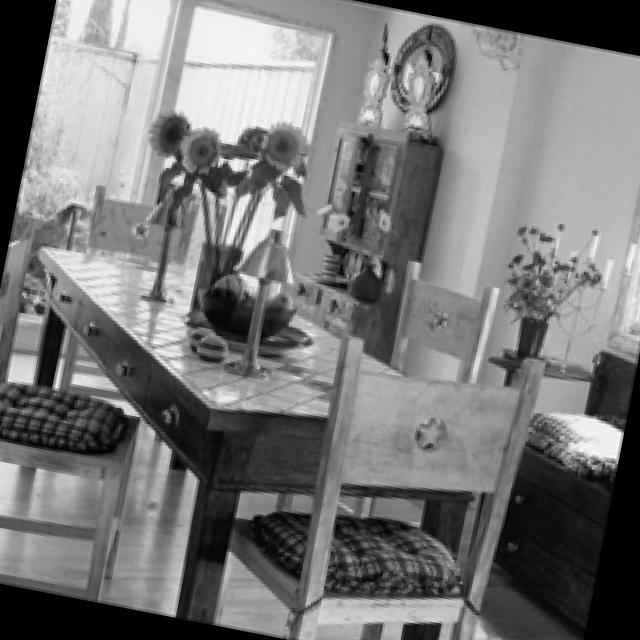2001: (18, 0, 181, 248), (182, 7, 333, 140), (608, 188, 640, 354)
bouquet: (151, 109, 315, 308), (512, 223, 604, 356), (322, 204, 401, 303)
buffet: (300, 121, 446, 357)
cabinet door: (425, 421, 605, 640)
candles: (548, 214, 640, 368)
chair: (88, 181, 203, 259)
chair -occluded-: (233, 333, 546, 640), (0, 222, 144, 595), (394, 259, 500, 379)
fruit plate: (208, 274, 296, 342)
lamp crop: (232, 227, 297, 380), (143, 186, 198, 301)
mirror crop: (395, 24, 460, 114)
pillow occluded: (266, 511, 463, 590), (0, 379, 132, 454), (533, 411, 625, 472)
side: (496, 349, 593, 381)
statue: (406, 55, 438, 125), (362, 58, 391, 124)
table -X: (33, 246, 427, 614)
